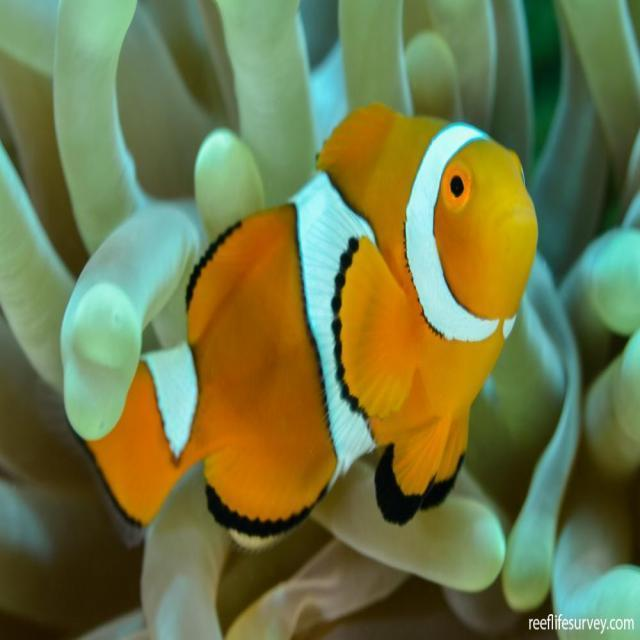ClownFish: (77, 110, 532, 533)
